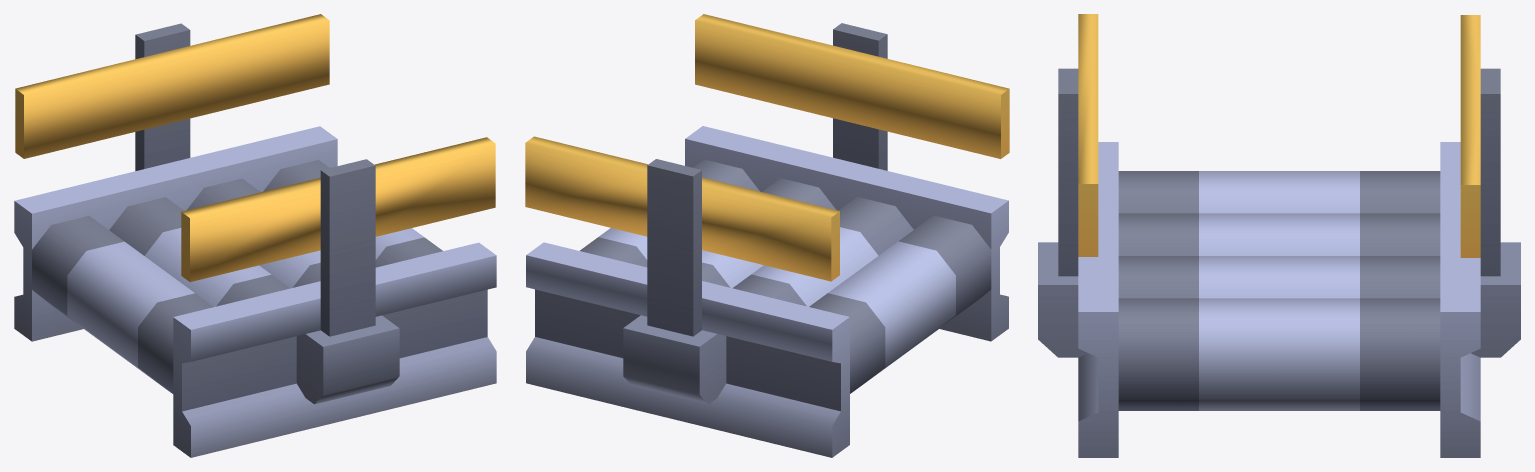
3 renders of one model, left to right at view 1: azimuth 30°, elevation 25°; view 2: azimuth 150°, elevation 25°; view 3: azimuth 270°, elevation 25°, orthographic. The views are drawn at different scales.
Visible parts, largest first — view 1: Group, Group_1, Group_2; view 2: Group, Group_1, Group_2; view 3: Group_2, Group, Group_1.
Boxes of the visible parts, x1=… form: Group: x1=15, y1=14, x2=495, y2=404; Group_1: x1=14, y1=126, x2=496, y2=457; Group_2: x1=32, y1=160, x2=442, y2=393; Group: x1=525, y1=14, x2=1009, y2=404; Group_1: x1=526, y1=126, x2=1008, y2=457; Group_2: x1=580, y1=159, x2=991, y2=393; Group_2: x1=1118, y1=171, x2=1440, y2=410; Group: x1=1038, y1=14, x2=1520, y2=357; Group_1: x1=1078, y1=142, x2=1480, y2=457.
Size of the model in its own units: 1.01 by 0.8 by 1.2.
1 material, 1 textured.
